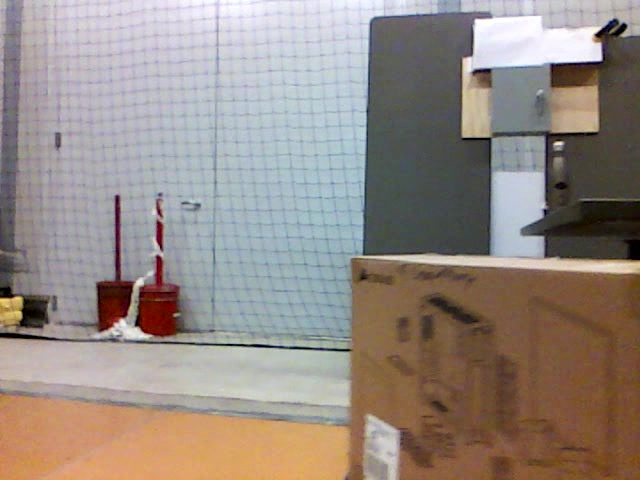box: (350, 253, 640, 478)
